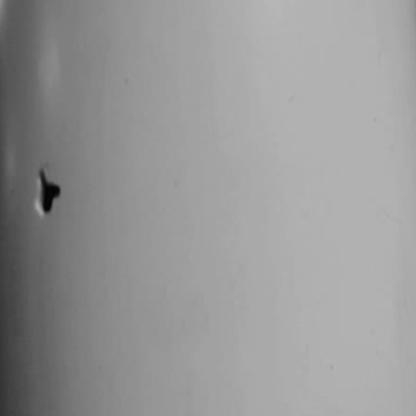kongdong: (26, 159, 81, 214)
